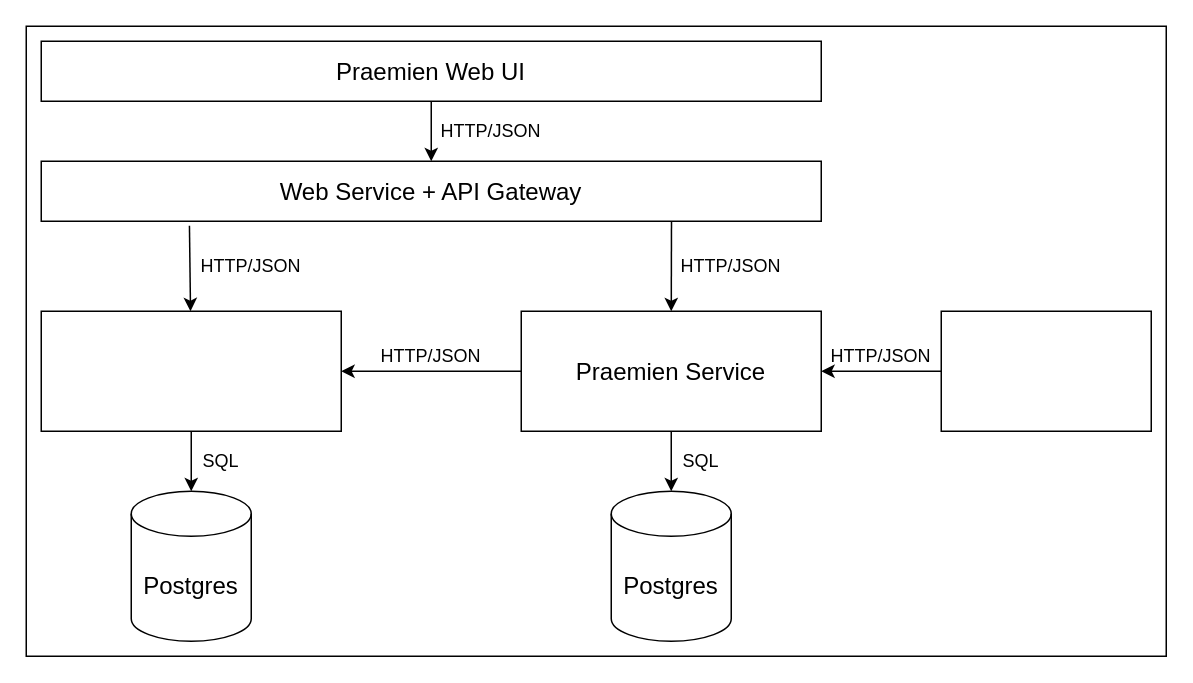
Image size: 1193x683. Some labels were removed from this diagram. The shapes that lost their labels are listed below. From the top down, each one's box as (x1, y1, x2, y2) in pixels, then its label:
(40, 310, 341, 431): Post C ode Service
(940, 310, 1151, 431): Praemien API Client
